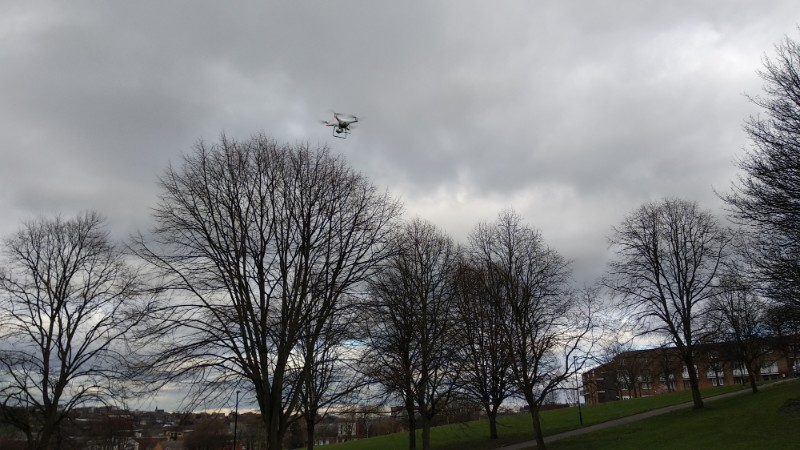drone: (321, 112, 361, 139)
